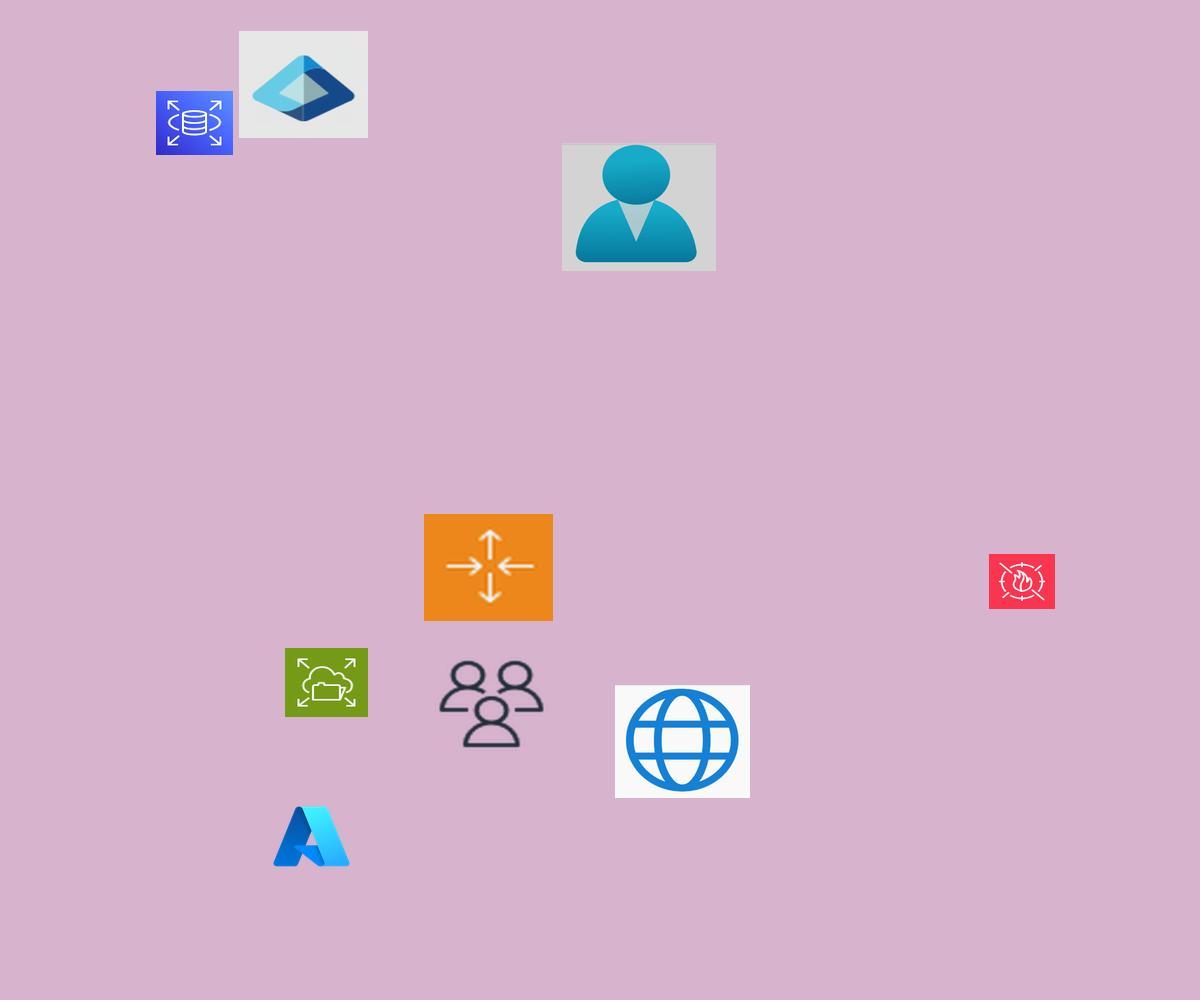AWS-EFS: (285, 648, 368, 717)
AWS-RDS: (156, 91, 233, 155)
AWS-Res_Users: (435, 657, 548, 751)
AWS-Scaling-group: (424, 514, 553, 621)
AWS-WAF: (989, 554, 1055, 609)
Azure_http: (615, 685, 750, 798)
Azure_microsoft_entra: (239, 31, 368, 138)
Azure_services: (270, 802, 353, 871)
Azure_users: (562, 143, 716, 271)
